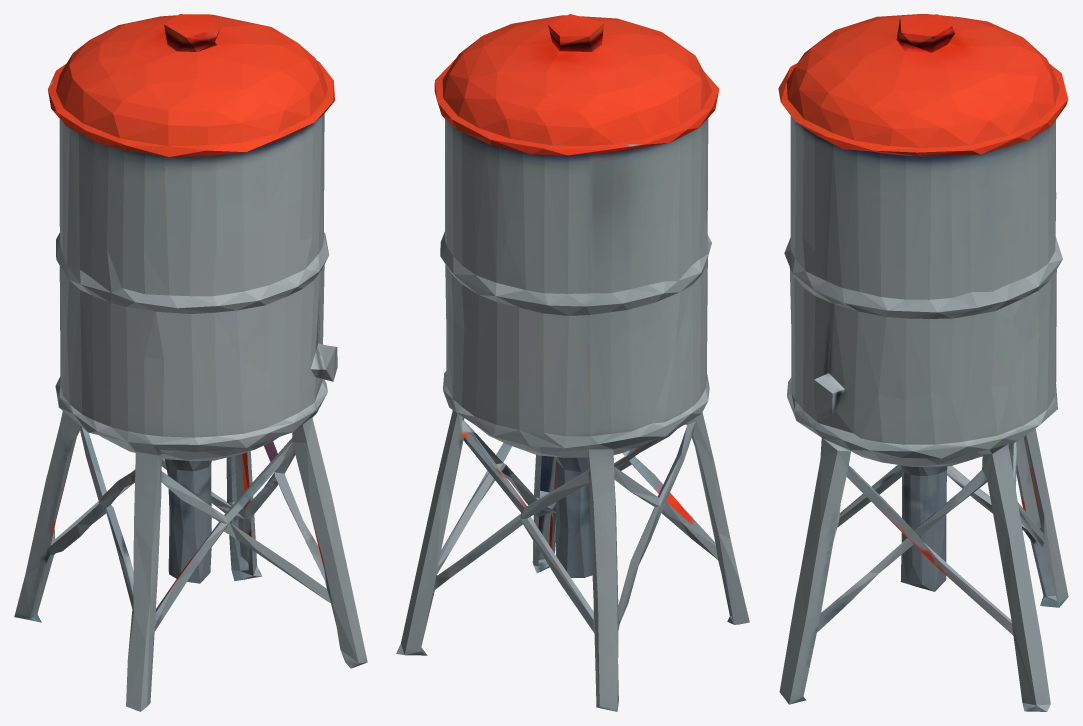
File: tank.glb
The picture shows the model from 3 angles, left to right: view 1: azimuth 30°, elevation 25°; view 2: azimuth 150°, elevation 25°; view 3: azimuth 270°, elevation 25°; orthographic projection. The views are drawn at different scales.
Visible parts, largest first — view 1: figure; view 2: figure; view 3: figure.
Boxes of the visible parts, x1=… form: figure: x1=14, y1=14, x2=367, y2=711; figure: x1=396, y1=14, x2=749, y2=711; figure: x1=778, y1=14, x2=1068, y2=711.
Size of the model in its own units: 0.4209 by 1 by 0.4183.
Materials: 1 (1 with a texture image).
